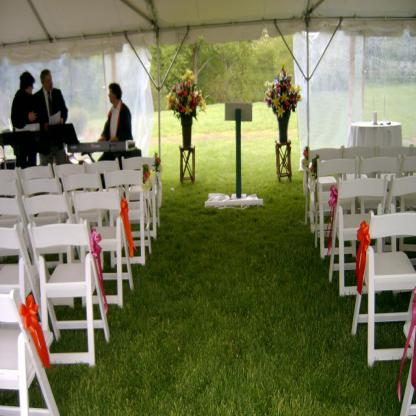face: (27, 81, 35, 97), (46, 74, 53, 91), (109, 87, 116, 103)
